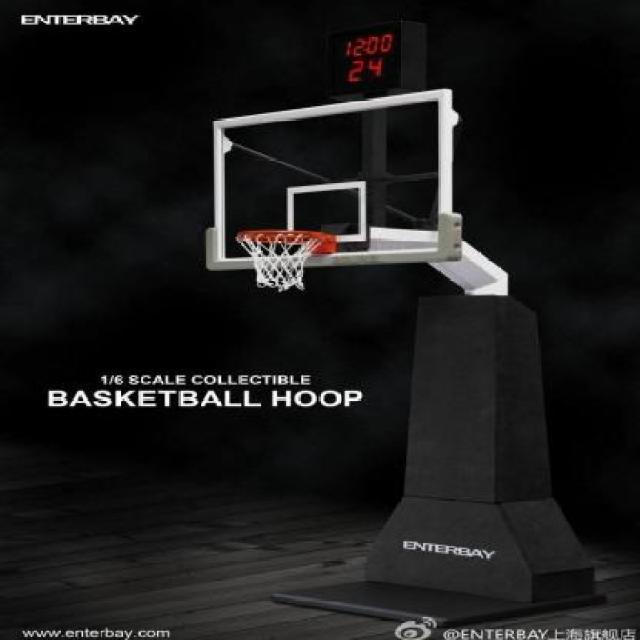rim: (239, 230, 327, 292)
